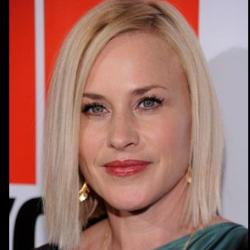face: (36, 3, 223, 233)
